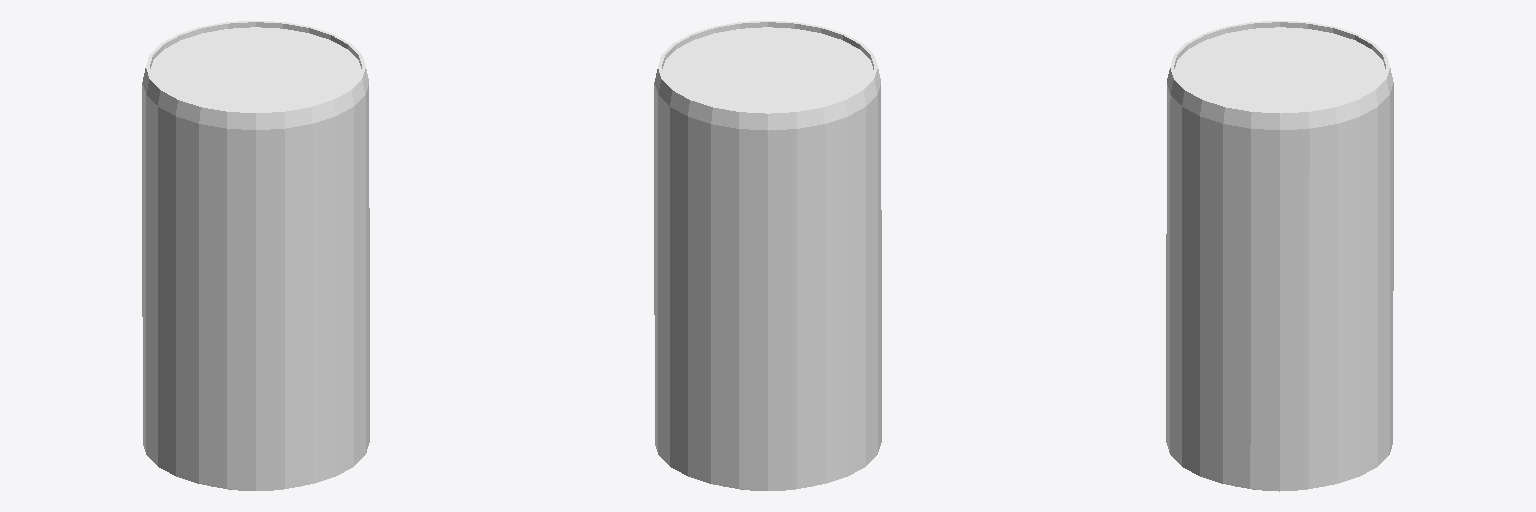
robot.urdf — pepsi_can:
<?xml version="1.0" ?>
<robot name="pepsi_can">
  <link name="base_link">
    <contact>
      <lateral_friction value="1.0"/>
      <rolling_friction value="1.0"/>
      <spinning_friction value="1.0"/>
      <inertia_scaling value="1.0"/>
    </contact>
    <inertial>
      <origin rpy="0 0 0" xyz="0 0 -0.08"/>
       <mass value="1.0"/>
       <inertia ixx="1" ixy="0" ixz="0" iyy="1" iyz="0" izz="1"/>
    </inertial>
    <visual>
      <origin rpy="1.57 0 0" xyz="0 0 0"/>
      <geometry>
        <mesh filename="model.obj" scale=".12 .12 .12"/>
      </geometry>
      <material name="white">
        <color rgba="1 1 1 1"/>
      </material>
    </visual>
    <collision>
      <origin rpy="0 0 0" xyz="0 0 0"/>
      <geometry>
        <mesh filename="model.obj" scale=".12 .12 .12"/>
      </geometry>
    </collision>
  </link>
</robot>

--- Facts derived from the render (not from the file) ---
3 views of the same robot in one strip: view 1: azimuth 30°, elevation 25°; view 2: azimuth 150°, elevation 25°; view 3: azimuth 270°, elevation 25° (orthographic).
Robot: pepsi_can — 1 links, 0 joints (none); root link base_link; default pose: all joints at 0.
Visible links, largest first — view 1: base_link; view 2: base_link; view 3: base_link.
Link boxes in pixels (bbox=[...]): base_link: bbox=[142, 21, 369, 490]; base_link: bbox=[654, 21, 881, 490]; base_link: bbox=[1166, 20, 1393, 491].
Bounding box of the posed robot: 0.0511 × 0.0512 × 0.0958 m (x, y, z).
1 mesh visuals loaded from 1 distinct referenced files (1 OBJ).